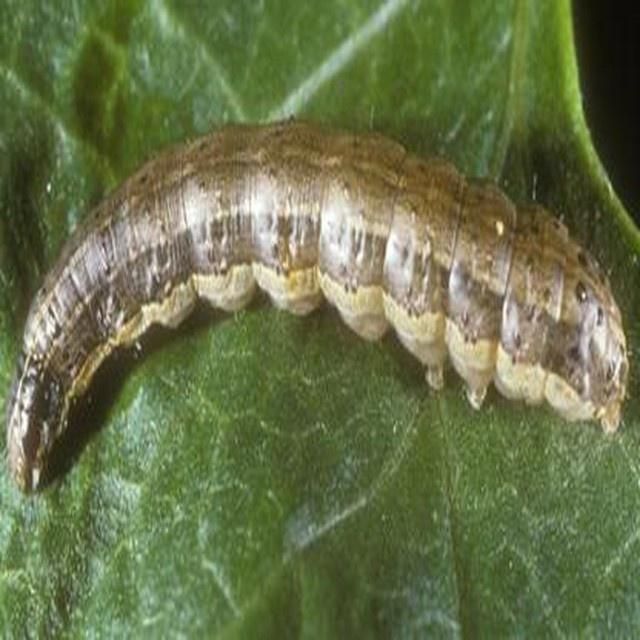gusano_cogollero: (9, 130, 628, 490)
